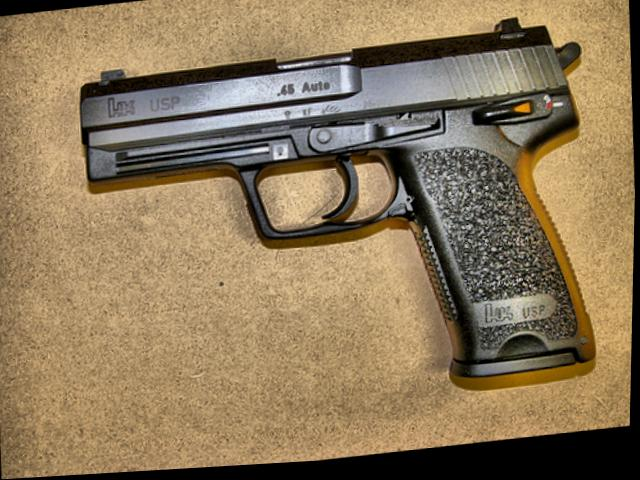pistol: (70, 14, 605, 422)
